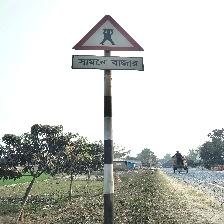Market-in-front: (71, 15, 145, 72), (71, 16, 145, 73)
